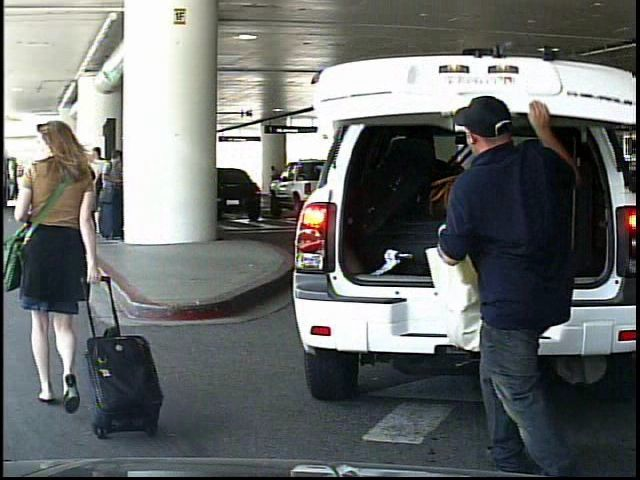person: (418, 81, 601, 477), (3, 118, 120, 435), (268, 164, 281, 200)
